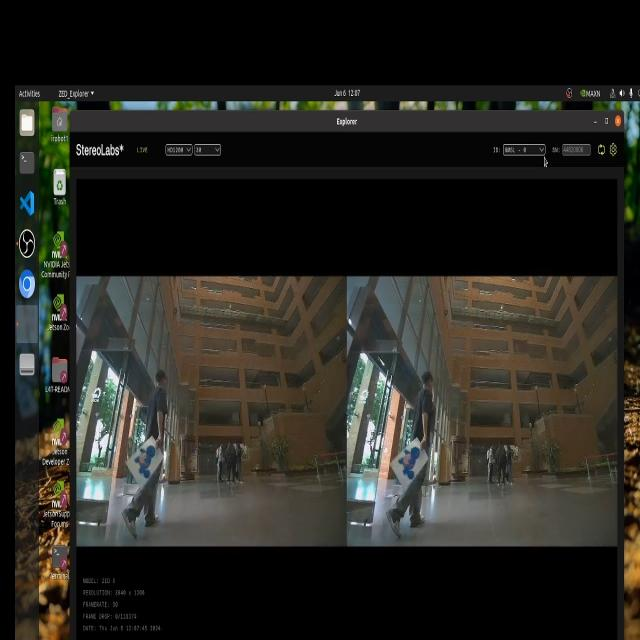blue: (132, 437, 154, 475), (401, 440, 421, 478)
